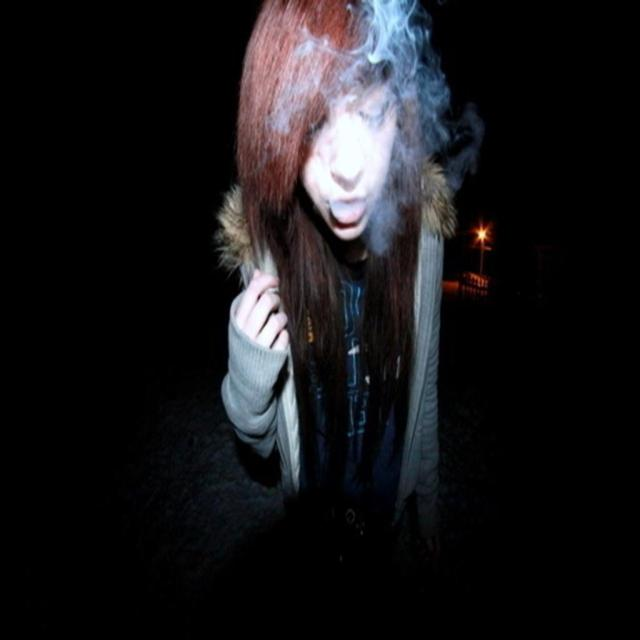smoking: (272, 23, 460, 261)
